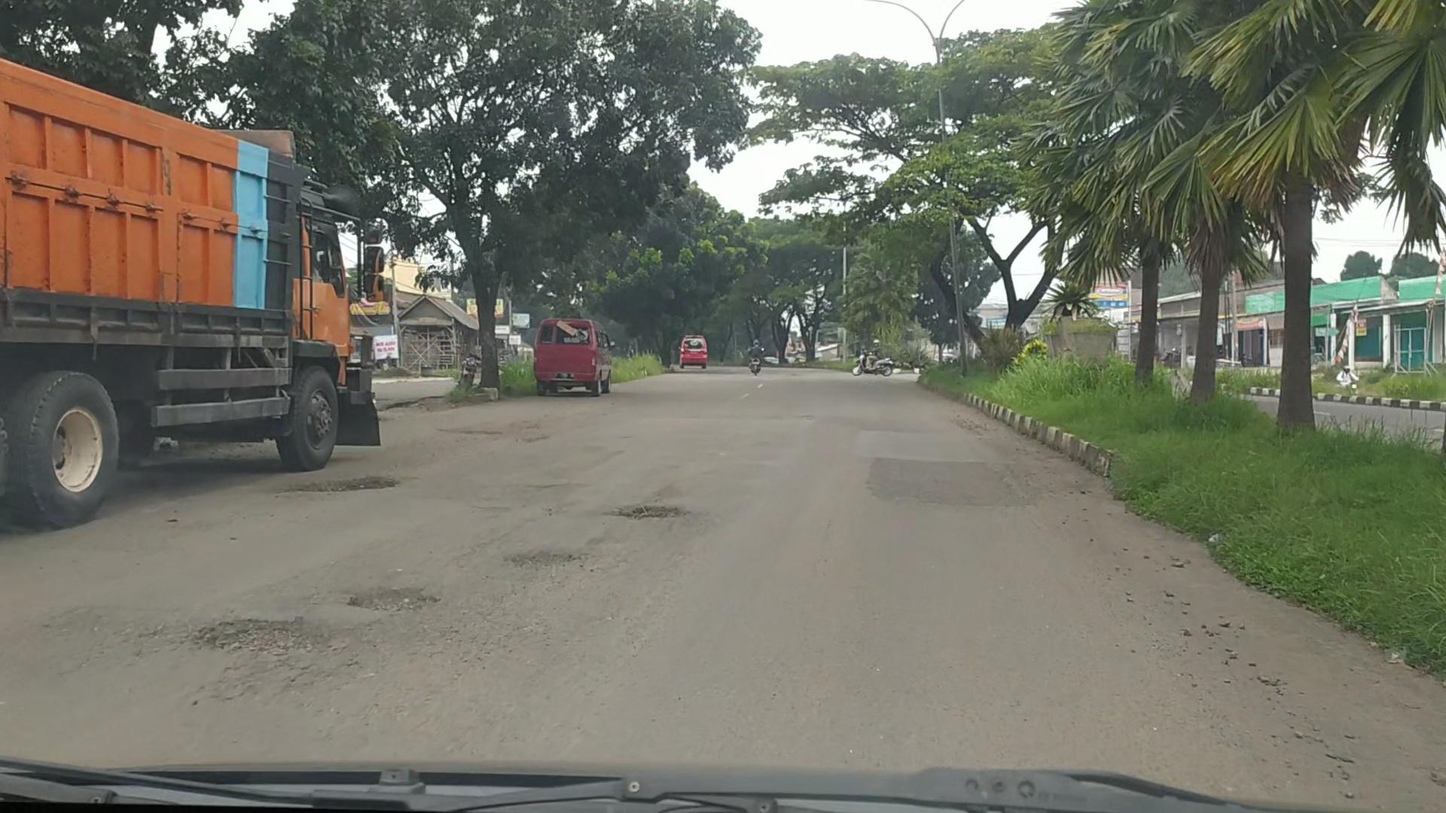pothole: (187, 616, 316, 657), (347, 585, 443, 616), (276, 476, 398, 495), (500, 547, 582, 568), (606, 504, 687, 521)
